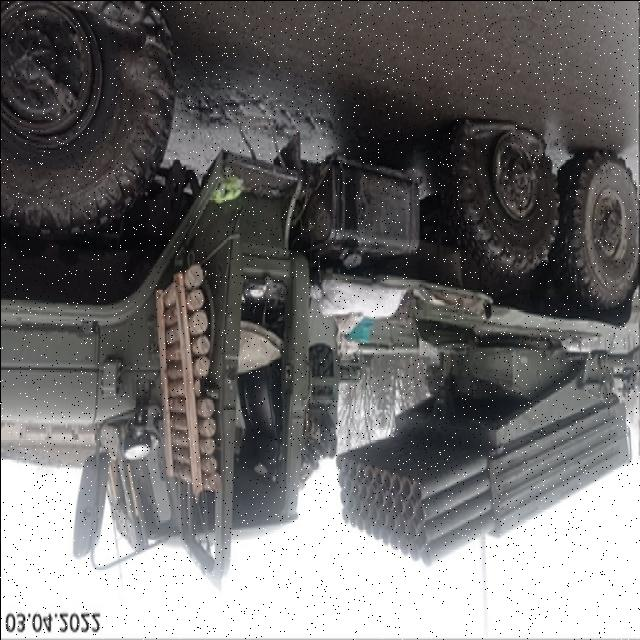MLRS: (0, 2, 636, 576)
